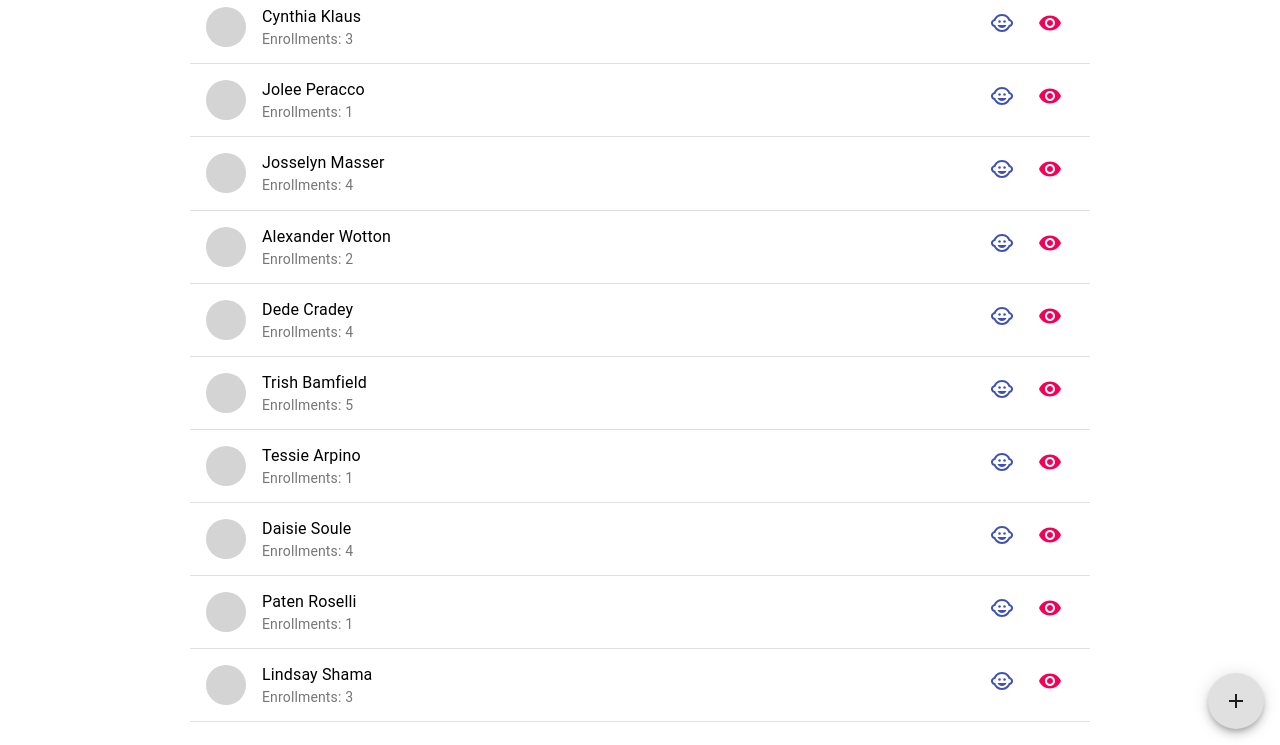
Test: should be able to filter and find the childminders with active enrollments - despite no student name
(page scrolled)
Click the button with test id "child-icon-id" at (1002, 681), box [978,657,1026,705]
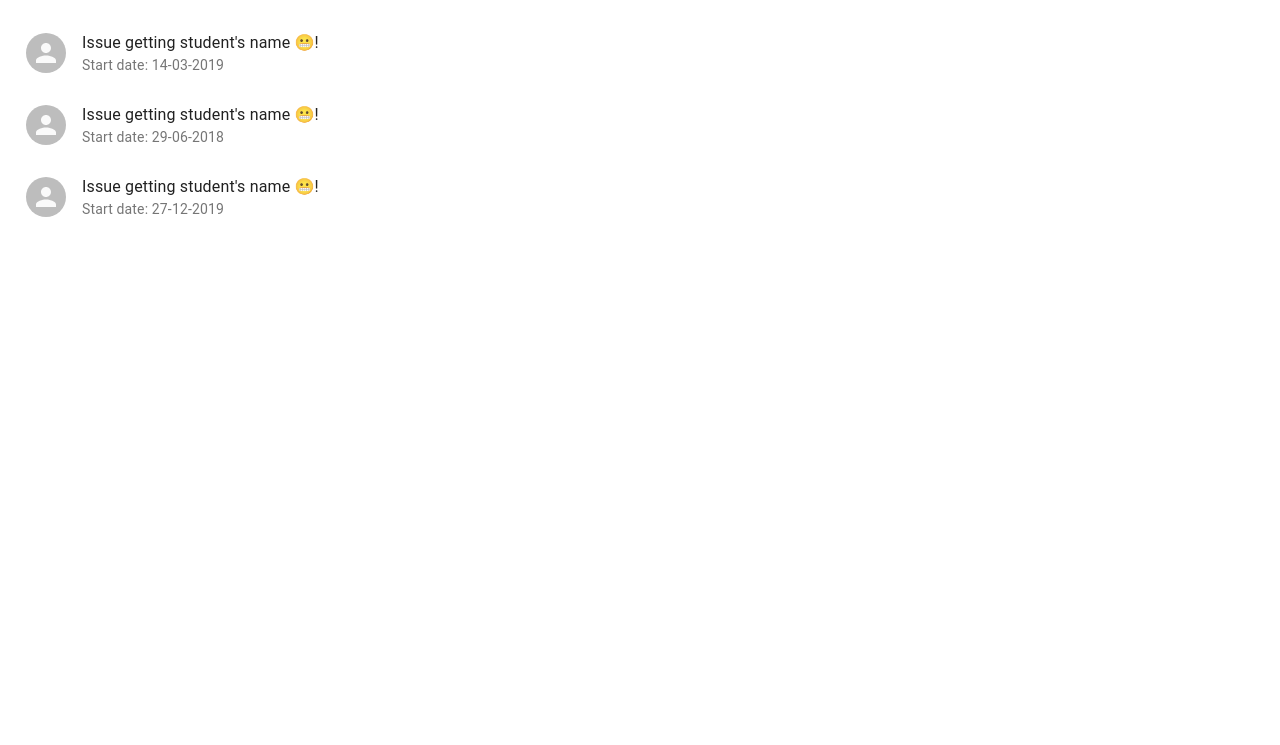
Expected: the text "Issue getting student's name 😬!" is shown 3 times, [82,31,332,55]; [82,103,332,127]; [82,175,332,199]
